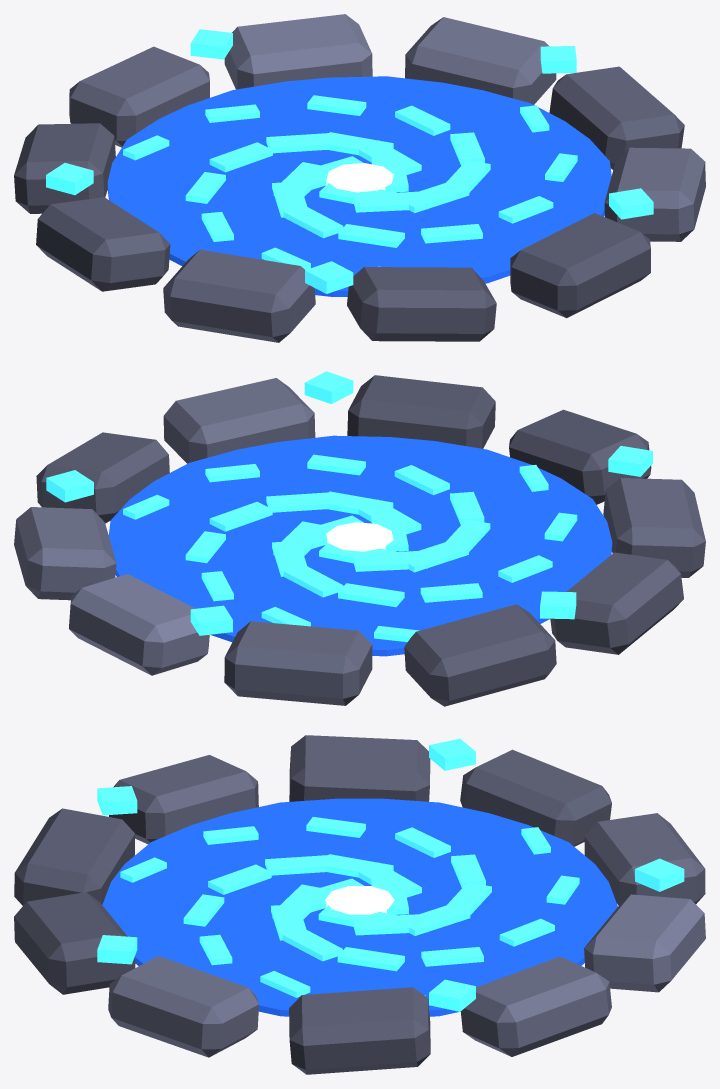
The model's file is portal_blue.glb.
3 views of the same model, one above another, from view 1: azimuth 30°, elevation 25°; view 2: azimuth 150°, elevation 25°; view 3: azimuth 270°, elevation 25° (orthographic).
Visible parts, largest first — view 1: ring, swirl; view 2: ring, swirl; view 3: ring, swirl.
Boxes of the visible parts, box(x1,y1,x2,y2) form: ring: box(14, 14, 705, 342); swirl: box(107, 76, 611, 296); ring: box(14, 371, 705, 706); swirl: box(108, 435, 612, 656); ring: box(14, 735, 705, 1074); swirl: box(102, 798, 617, 1016).
Bounding box in the file's own units: 0.9933 × 0.1063 × 0.9925.
